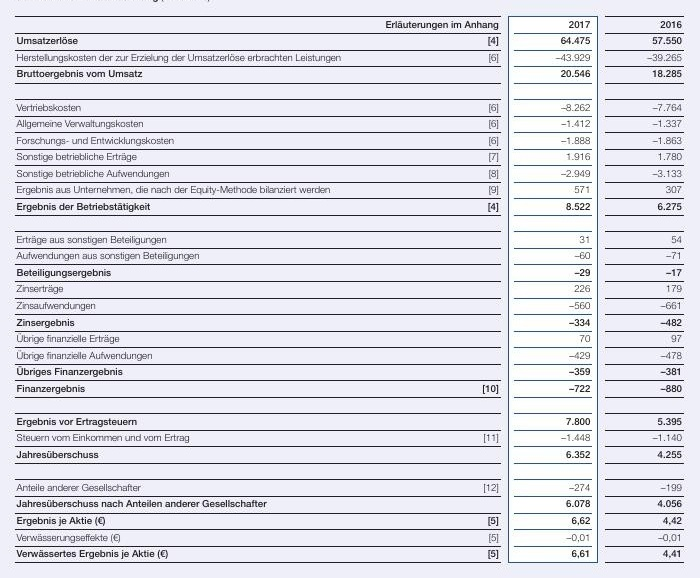table: (0, 0, 700, 578)
